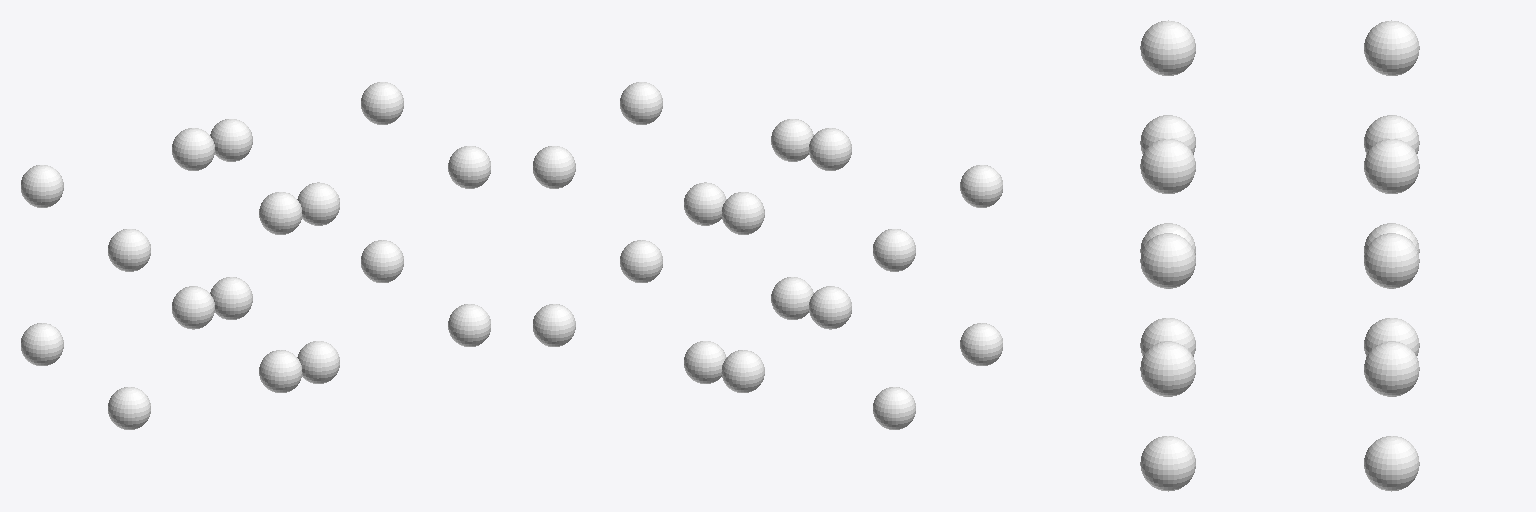
robot.urdf — urdf_robot:
<?xml version="0.0" ?>
<robot name="urdf_robot">
	<link name="baseLink1">
		<inertial>
			<origin rpy="0.00000 -0.00000 0.00000" xyz="0.50000 0.00000 0.00000"/>
			<mass value="2.00000"/>
			<inertia ixx="0.33467" ixy="0" ixz="0" iyy="0.83533" iyz="0" izz="0.83533"/>
		</inertial>
		<visual>
			<origin rpy="0.00000 -0.00000 0.00000" xyz="0.00000 0.00000 0.00000"/>
			<geometry>
				<mesh filename="cube.obj" scale="1.00000 1.00000 1.00000"/>
			</geometry>
			<material name="mat_-1_0">
				<color rgba="1.00000 1.00000 1.00000 1.00000" />
			</material>
		</visual>
		<visual>
			<origin rpy="0.00000 -0.00000 0.00000" xyz="0.40000 0.40000 0.40000"/>
			<geometry>
				<sphere radius="0.10000"/>
			</geometry>
			<material name="mat_-1_1">
				<color rgba="1.00000 1.00000 1.00000 1.00000" />
			</material>
		</visual>
		<visual>
			<origin rpy="0.00000 -0.00000 0.00000" xyz="-0.40000 0.40000 0.40000"/>
			<geometry>
				<sphere radius="0.10000"/>
			</geometry>
			<material name="mat_-1_2">
				<color rgba="1.00000 1.00000 1.00000 1.00000" />
			</material>
		</visual>
		<visual>
			<origin rpy="0.00000 -0.00000 0.00000" xyz="0.40000 -0.40000 0.40000"/>
			<geometry>
				<sphere radius="0.10000"/>
			</geometry>
			<material name="mat_-1_3">
				<color rgba="1.00000 1.00000 1.00000 1.00000" />
			</material>
		</visual>
		<visual>
			<origin rpy="0.00000 -0.00000 0.00000" xyz="-0.40000 -0.40000 0.40000"/>
			<geometry>
				<sphere radius="0.10000"/>
			</geometry>
			<material name="mat_-1_4">
				<color rgba="1.00000 1.00000 1.00000 1.00000" />
			</material>
		</visual>
		<visual>
			<origin rpy="0.00000 -0.00000 0.00000" xyz="0.40000 0.40000 -0.40000"/>
			<geometry>
				<sphere radius="0.10000"/>
			</geometry>
			<material name="mat_-1_5">
				<color rgba="1.00000 1.00000 1.00000 1.00000" />
			</material>
		</visual>
		<visual>
			<origin rpy="0.00000 -0.00000 0.00000" xyz="-0.40000 0.40000 -0.40000"/>
			<geometry>
				<sphere radius="0.10000"/>
			</geometry>
			<material name="mat_-1_6">
				<color rgba="1.00000 1.00000 1.00000 1.00000" />
			</material>
		</visual>
		<visual>
			<origin rpy="0.00000 -0.00000 0.00000" xyz="0.40000 -0.40000 -0.40000"/>
			<geometry>
				<sphere radius="0.10000"/>
			</geometry>
			<material name="mat_-1_7">
				<color rgba="1.00000 1.00000 1.00000 1.00000" />
			</material>
		</visual>
		<visual>
			<origin rpy="0.00000 -0.00000 0.00000" xyz="-0.40000 -0.40000 -0.40000"/>
			<geometry>
				<sphere radius="0.10000"/>
			</geometry>
			<material name="mat_-1_8">
				<color rgba="1.00000 1.00000 1.00000 1.00000" />
			</material>
		</visual>
		<visual>
			<origin rpy="0.00000 -0.00000 0.00000" xyz="1.00000 0.00000 0.00000"/>
			<geometry>
				<mesh filename="cube.obj" scale="1.00000 1.00000 1.00000"/>
			</geometry>
			<material name="mat_-1_9">
				<color rgba="1.00000 1.00000 1.00000 1.00000" />
			</material>
		</visual>
		<visual>
			<origin rpy="0.00000 -0.00000 0.00000" xyz="1.40000 0.40000 0.40000"/>
			<geometry>
				<sphere radius="0.10000"/>
			</geometry>
			<material name="mat_-1_10">
				<color rgba="1.00000 1.00000 1.00000 1.00000" />
			</material>
		</visual>
		<visual>
			<origin rpy="0.00000 -0.00000 0.00000" xyz="0.60000 0.40000 0.40000"/>
			<geometry>
				<sphere radius="0.10000"/>
			</geometry>
			<material name="mat_-1_11">
				<color rgba="1.00000 1.00000 1.00000 1.00000" />
			</material>
		</visual>
		<visual>
			<origin rpy="0.00000 -0.00000 0.00000" xyz="1.40000 -0.40000 0.40000"/>
			<geometry>
				<sphere radius="0.10000"/>
			</geometry>
			<material name="mat_-1_12">
				<color rgba="1.00000 1.00000 1.00000 1.00000" />
			</material>
		</visual>
		<visual>
			<origin rpy="0.00000 -0.00000 0.00000" xyz="0.60000 -0.40000 0.40000"/>
			<geometry>
				<sphere radius="0.10000"/>
			</geometry>
			<material name="mat_-1_13">
				<color rgba="1.00000 1.00000 1.00000 1.00000" />
			</material>
		</visual>
		<visual>
			<origin rpy="0.00000 -0.00000 0.00000" xyz="1.40000 0.40000 -0.40000"/>
			<geometry>
				<sphere radius="0.10000"/>
			</geometry>
			<material name="mat_-1_14">
				<color rgba="1.00000 1.00000 1.00000 1.00000" />
			</material>
		</visual>
		<visual>
			<origin rpy="0.00000 -0.00000 0.00000" xyz="0.60000 0.40000 -0.40000"/>
			<geometry>
				<sphere radius="0.10000"/>
			</geometry>
			<material name="mat_-1_15">
				<color rgba="1.00000 1.00000 1.00000 1.00000" />
			</material>
		</visual>
		<visual>
			<origin rpy="0.00000 -0.00000 0.00000" xyz="1.40000 -0.40000 -0.40000"/>
			<geometry>
				<sphere radius="0.10000"/>
			</geometry>
			<material name="mat_-1_16">
				<color rgba="1.00000 1.00000 1.00000 1.00000" />
			</material>
		</visual>
		<visual>
			<origin rpy="0.00000 -0.00000 0.00000" xyz="0.60000 -0.40000 -0.40000"/>
			<geometry>
				<sphere radius="0.10000"/>
			</geometry>
			<material name="mat_-1_17">
				<color rgba="1.00000 1.00000 1.00000 1.00000" />
			</material>
		</visual>
		<collision>
			<origin rpy="0.00000 -0.00000 0.00000" xyz="0.40000 0.40000 0.40000"/>
			<geometry>
				<sphere radius="0.10000"/>
			</geometry>
		</collision>
		<collision>
			<origin rpy="0.00000 -0.00000 0.00000" xyz="-0.40000 0.40000 0.40000"/>
			<geometry>
				<sphere radius="0.10000"/>
			</geometry>
		</collision>
		<collision>
			<origin rpy="0.00000 -0.00000 0.00000" xyz="0.40000 -0.40000 0.40000"/>
			<geometry>
				<sphere radius="0.10000"/>
			</geometry>
		</collision>
		<collision>
			<origin rpy="0.00000 -0.00000 0.00000" xyz="-0.40000 -0.40000 0.40000"/>
			<geometry>
				<sphere radius="0.10000"/>
			</geometry>
		</collision>
		<collision>
			<origin rpy="0.00000 -0.00000 0.00000" xyz="0.40000 0.40000 -0.40000"/>
			<geometry>
				<sphere radius="0.10000"/>
			</geometry>
		</collision>
		<collision>
			<origin rpy="0.00000 -0.00000 0.00000" xyz="-0.40000 0.40000 -0.40000"/>
			<geometry>
				<sphere radius="0.10000"/>
			</geometry>
		</collision>
		<collision>
			<origin rpy="0.00000 -0.00000 0.00000" xyz="0.40000 -0.40000 -0.40000"/>
			<geometry>
				<sphere radius="0.10000"/>
			</geometry>
		</collision>
		<collision>
			<origin rpy="0.00000 -0.00000 0.00000" xyz="-0.40000 -0.40000 -0.40000"/>
			<geometry>
				<sphere radius="0.10000"/>
			</geometry>
		</collision>
		<collision>
			<origin rpy="0.00000 -0.00000 0.00000" xyz="1.40000 0.40000 0.40000"/>
			<geometry>
				<sphere radius="0.10000"/>
			</geometry>
		</collision>
		<collision>
			<origin rpy="0.00000 -0.00000 0.00000" xyz="0.60000 0.40000 0.40000"/>
			<geometry>
				<sphere radius="0.10000"/>
			</geometry>
		</collision>
		<collision>
			<origin rpy="0.00000 -0.00000 0.00000" xyz="1.40000 -0.40000 0.40000"/>
			<geometry>
				<sphere radius="0.10000"/>
			</geometry>
		</collision>
		<collision>
			<origin rpy="0.00000 -0.00000 0.00000" xyz="0.60000 -0.40000 0.40000"/>
			<geometry>
				<sphere radius="0.10000"/>
			</geometry>
		</collision>
		<collision>
			<origin rpy="0.00000 -0.00000 0.00000" xyz="1.40000 0.40000 -0.40000"/>
			<geometry>
				<sphere radius="0.10000"/>
			</geometry>
		</collision>
		<collision>
			<origin rpy="0.00000 -0.00000 0.00000" xyz="0.60000 0.40000 -0.40000"/>
			<geometry>
				<sphere radius="0.10000"/>
			</geometry>
		</collision>
		<collision>
			<origin rpy="0.00000 -0.00000 0.00000" xyz="1.40000 -0.40000 -0.40000"/>
			<geometry>
				<sphere radius="0.10000"/>
			</geometry>
		</collision>
		<collision>
			<origin rpy="0.00000 -0.00000 0.00000" xyz="0.60000 -0.40000 -0.40000"/>
			<geometry>
				<sphere radius="0.10000"/>
			</geometry>
		</collision>
	</link>
</robot>

--- Facts derived from the render (not from the file) ---
3 views of the same robot in one strip: view 1: azimuth 30°, elevation 25°; view 2: azimuth 150°, elevation 25°; view 3: azimuth 270°, elevation 25° (orthographic).
Model urdf_robot with 1 links and 0 joints (none), rooted at baseLink1, posed all joints at 0.
Visible links, largest first — view 1: baseLink1; view 2: baseLink1; view 3: baseLink1.
Boxes of the visible links, x1,y1,x2,y2 form: baseLink1: (21, 82, 490, 429); baseLink1: (533, 82, 1002, 429); baseLink1: (1140, 20, 1419, 491).
Bounding box of the posed robot: 2 × 1 × 1 m (x, y, z).
Meshes: 1 distinct files referenced, 0 mesh visuals loaded (none loaded); not drawn: 2 (reference not matched to a file when rendering).